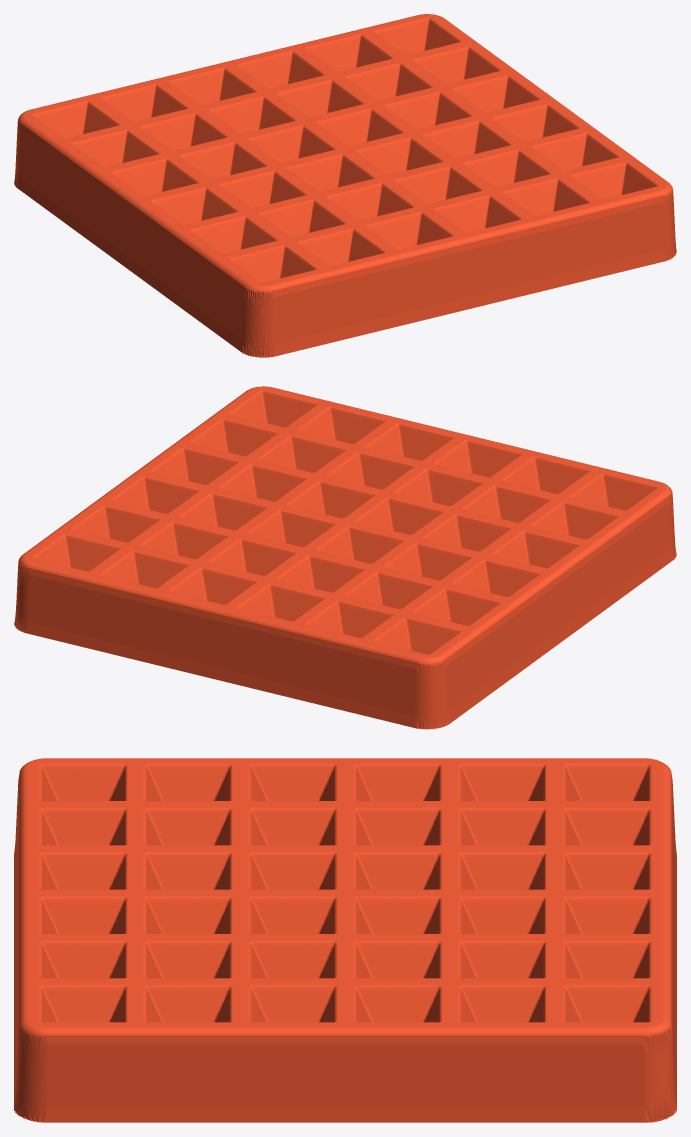
File: mold.glb
3 views of the same model, one above another, from view 1: azimuth 30°, elevation 25°; view 2: azimuth 150°, elevation 25°; view 3: azimuth 270°, elevation 25° (orthographic). The views are drawn at different scales.
Parts seen in each view (by area): view 1: geometry_0; view 2: geometry_0; view 3: geometry_0.
Part boxes in pixels (bbox=[...]): geometry_0: bbox=[14, 14, 676, 357]; geometry_0: bbox=[14, 386, 676, 729]; geometry_0: bbox=[14, 758, 676, 1122].
Bounding box in the file's own units: 0.1751 × 0.0261 × 0.1751.
